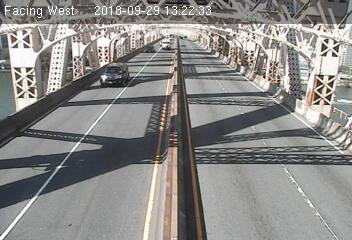car: (97, 61, 131, 88), (140, 43, 157, 56), (161, 38, 173, 52)
